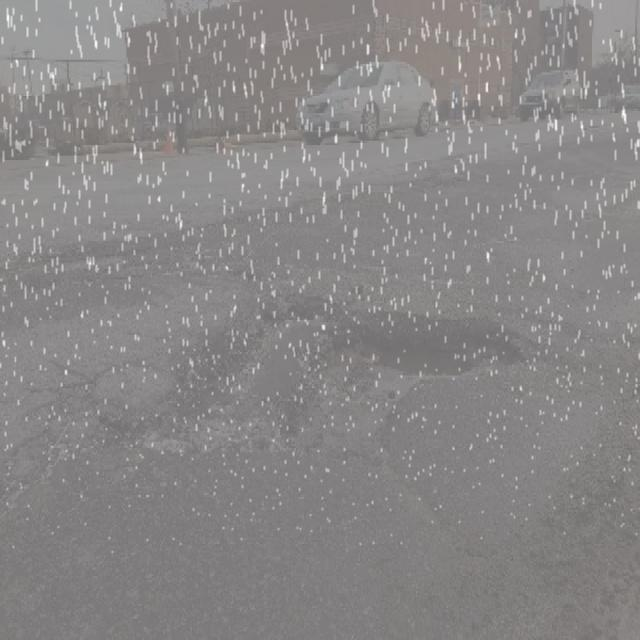Pothole: (135, 279, 352, 477), (334, 283, 566, 399), (0, 222, 173, 278)
